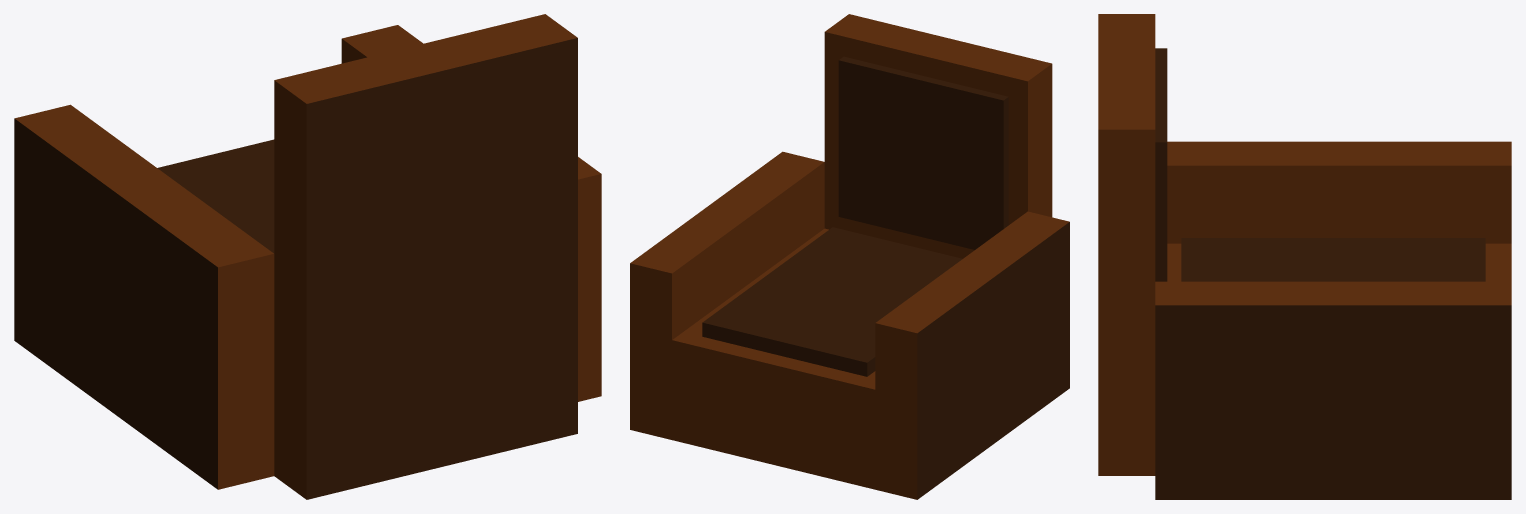
File: Single_Seater_Sofa.FBX
3 views of the same model, side by side, from view 1: azimuth 30°, elevation 25°; view 2: azimuth 150°, elevation 25°; view 3: azimuth 270°, elevation 25° (orthographic). The views are drawn at different scales.
Parts seen in each view (by area): view 1: sofa 1 seat; view 2: sofa 1 seat; view 3: sofa 1 seat.
Boxes of the visible parts, x1,y1,x2,y2 form: sofa 1 seat: [14, 14, 601, 499]; sofa 1 seat: [630, 14, 1069, 499]; sofa 1 seat: [1098, 14, 1511, 499].
Size of the model in its own units: 0.75 by 0.74 by 0.8.
